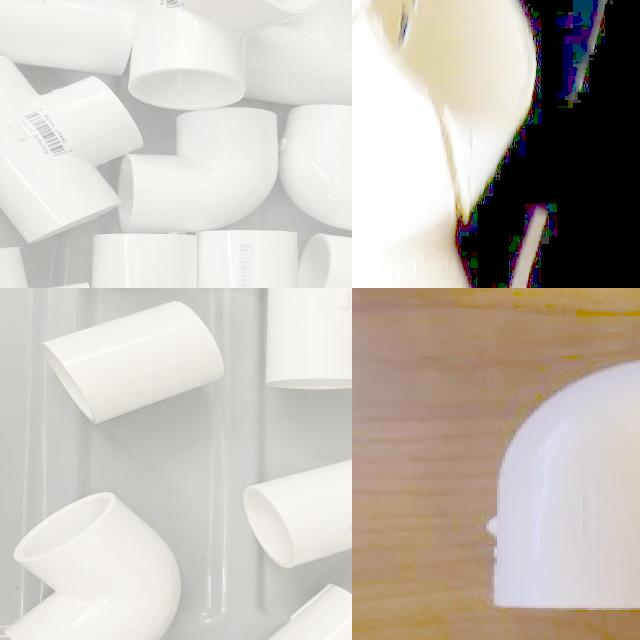Defective: (412, 81, 476, 239), (395, 0, 446, 61)
L Joint: (493, 361, 640, 613), (0, 492, 184, 640), (118, 107, 278, 233), (282, 105, 352, 233)
T Joint: (352, 0, 537, 288), (0, 58, 144, 245), (126, 0, 319, 113), (264, 288, 352, 393)
